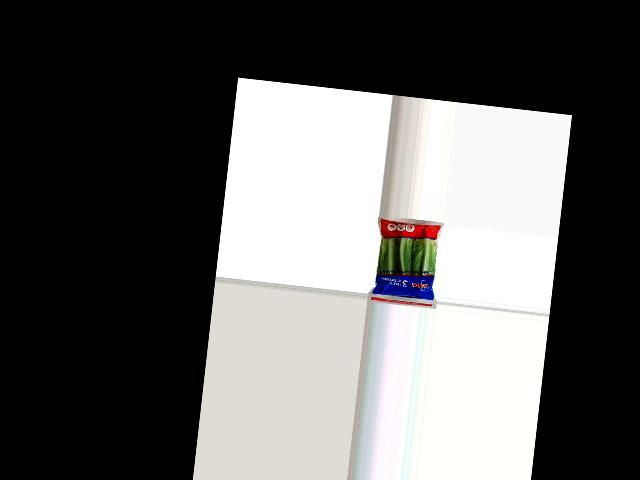lettuce: (371, 215, 445, 304)
